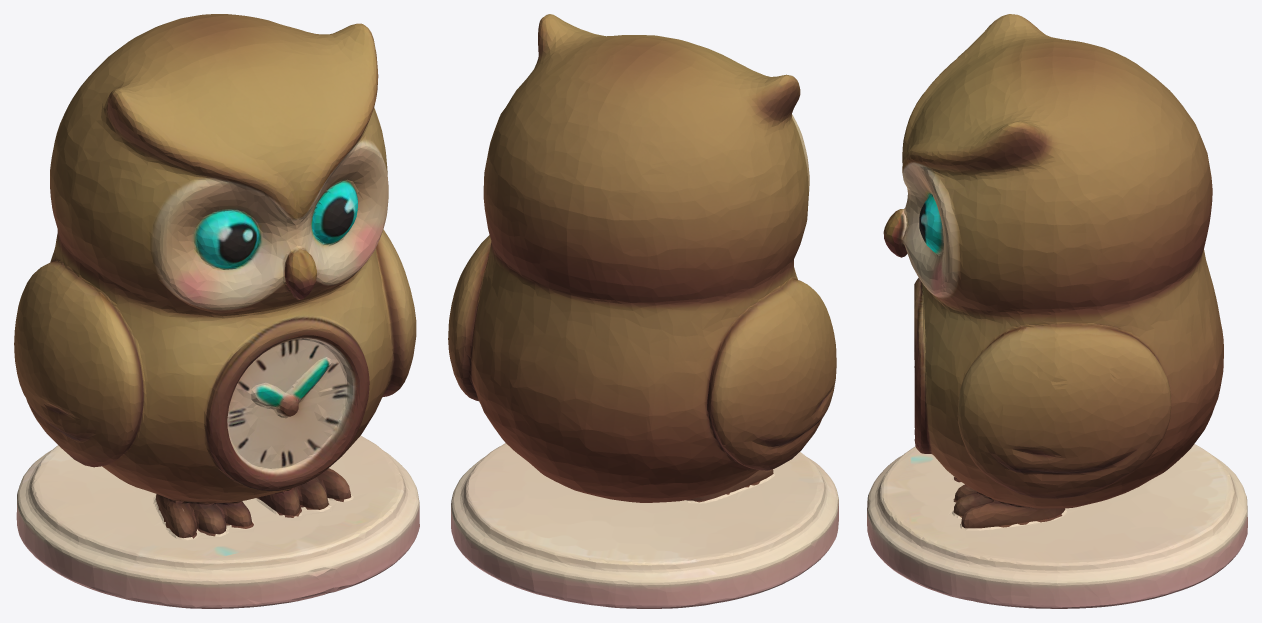
The model's file is fig-38.glb.
3 views of the same model, side by side, from view 1: azimuth 30°, elevation 25°; view 2: azimuth 150°, elevation 25°; view 3: azimuth 270°, elevation 25° (orthographic). The views are drawn at different scales.
Parts seen in each view (by area): view 1: tmp6t19e5wm.ply; view 2: tmp6t19e5wm.ply; view 3: tmp6t19e5wm.ply.
Part boxes in pixels (x1,y1,x2,y2): tmp6t19e5wm.ply: [14, 14, 419, 608]; tmp6t19e5wm.ply: [448, 14, 838, 608]; tmp6t19e5wm.ply: [867, 14, 1247, 608].
Size of the model in its own units: 1.5 by 1.99 by 1.45.
1 material, 1 textured.
